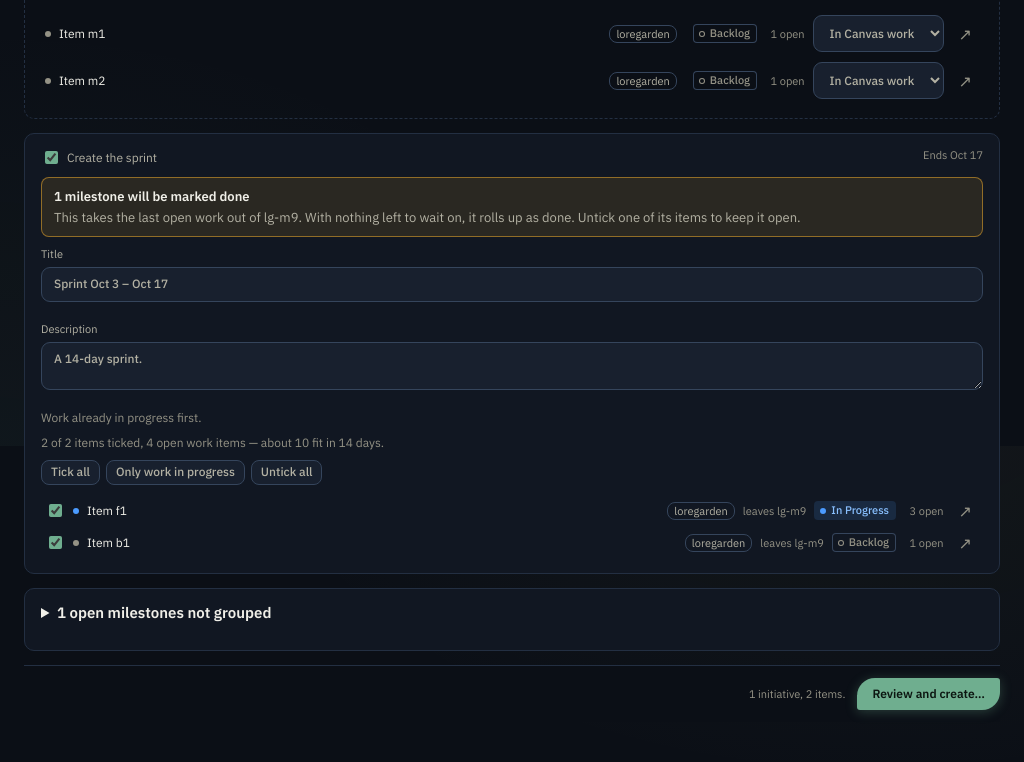
Escape on the confirm step goes back to editing without writing
(page scrolled)
Click the button "Review and create…" at (929, 694), box [857,678,1000,710]
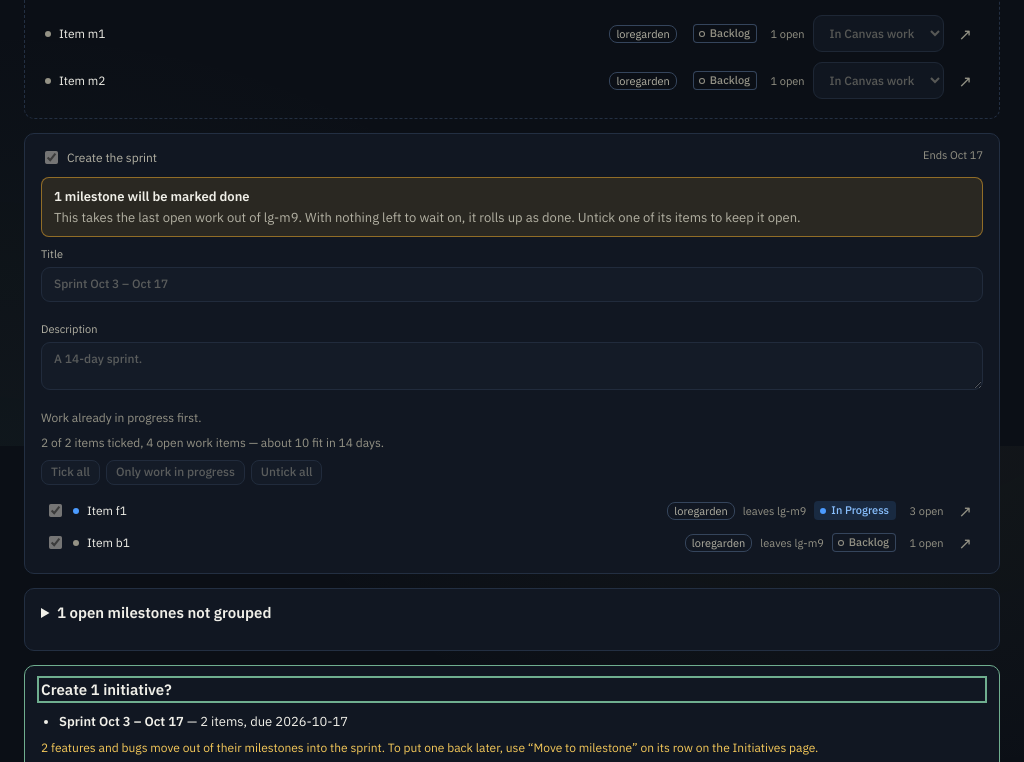
Press Escape
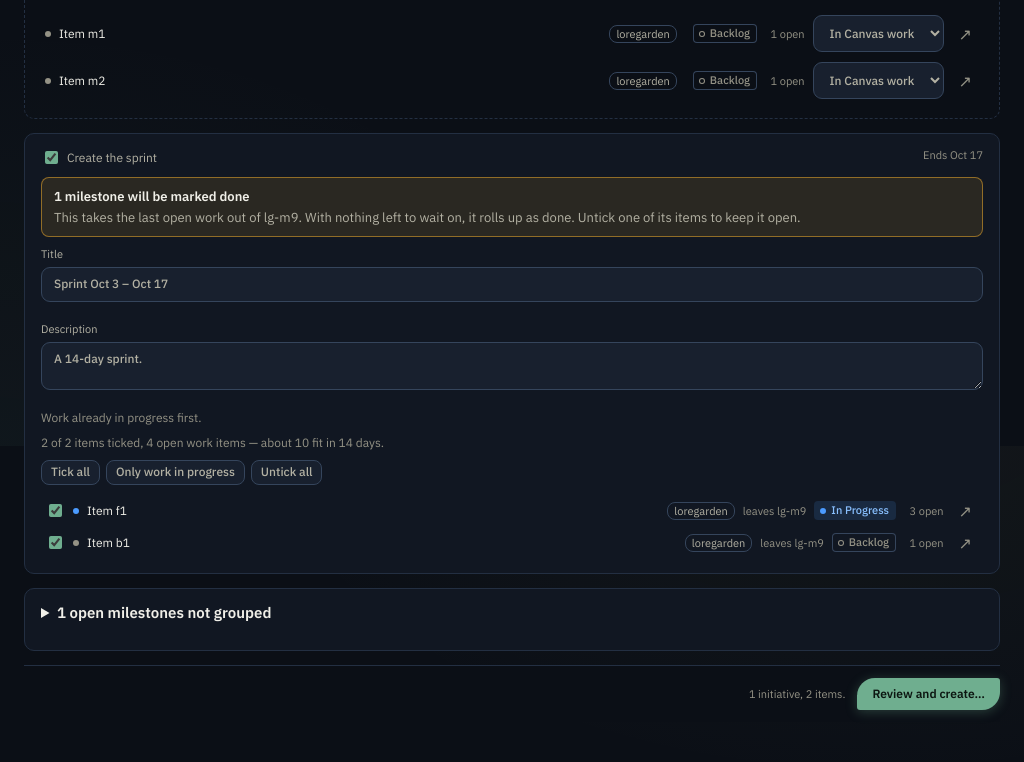
Expected: the button "Review and create…" is shown, [857,678,1000,710]
